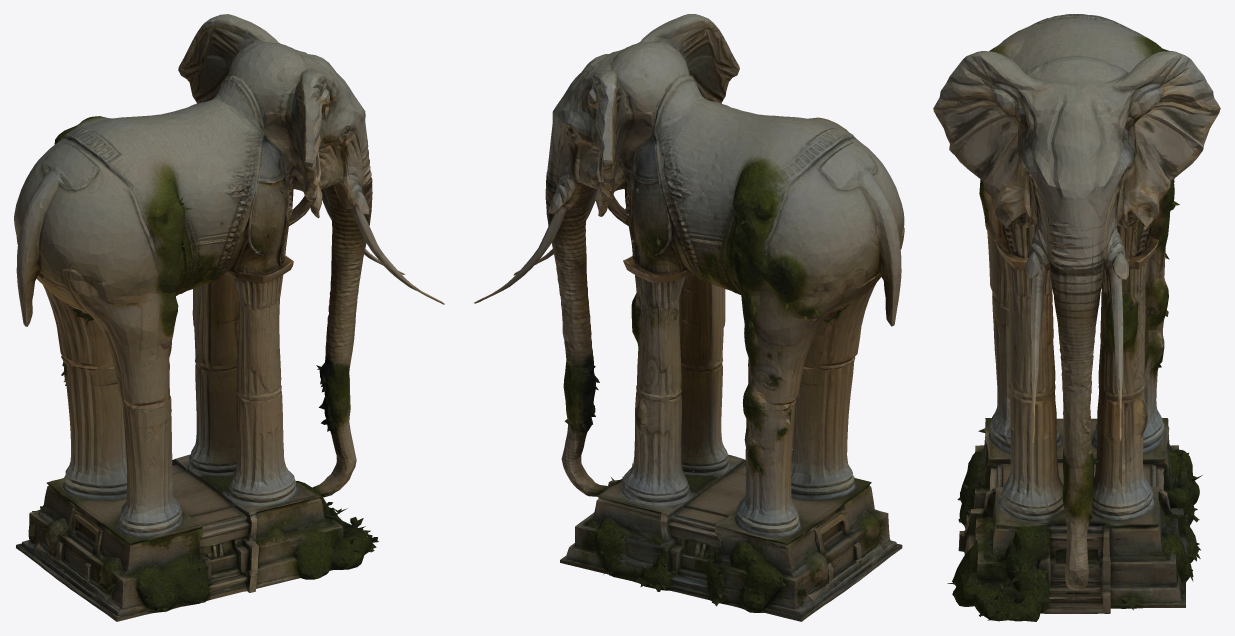
Rendered from tripo_convert_10a0a079-9ce6-4f02-9545-b4a09a15394b.fbx.
3 views of the same model, side by side, from view 1: azimuth 30°, elevation 25°; view 2: azimuth 150°, elevation 25°; view 3: azimuth 270°, elevation 25° (orthographic). The views are drawn at different scales.
Parts seen in each view (by area): view 1: tripo_node_10a0a079; view 2: tripo_node_10a0a079; view 3: tripo_node_10a0a079.
Boxes of the visible parts, x1=… form: tripo_node_10a0a079: x1=14, y1=14, x2=444, y2=621; tripo_node_10a0a079: x1=474, y1=14, x2=904, y2=621; tripo_node_10a0a079: x1=933, y1=14, x2=1220, y2=621.
Size of the model in its own units: 0.8664 by 0.9987 by 0.4856.
1 material, 1 textured.
